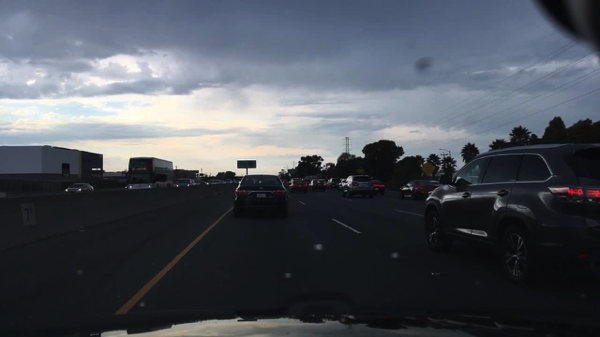car: (421, 141, 599, 285), (233, 173, 291, 220), (341, 174, 375, 200), (398, 181, 437, 201), (64, 182, 95, 194), (369, 177, 386, 197), (307, 177, 327, 193), (289, 178, 309, 194), (174, 178, 197, 189), (325, 176, 342, 190), (428, 177, 443, 189), (337, 177, 349, 190), (287, 177, 302, 185), (301, 177, 313, 185), (280, 178, 288, 187), (210, 177, 219, 185), (194, 178, 202, 186), (234, 177, 241, 185), (206, 178, 213, 185), (225, 178, 232, 184), (218, 179, 224, 185), (202, 181, 210, 185)
truck: (129, 157, 175, 175), (123, 182, 151, 189)
